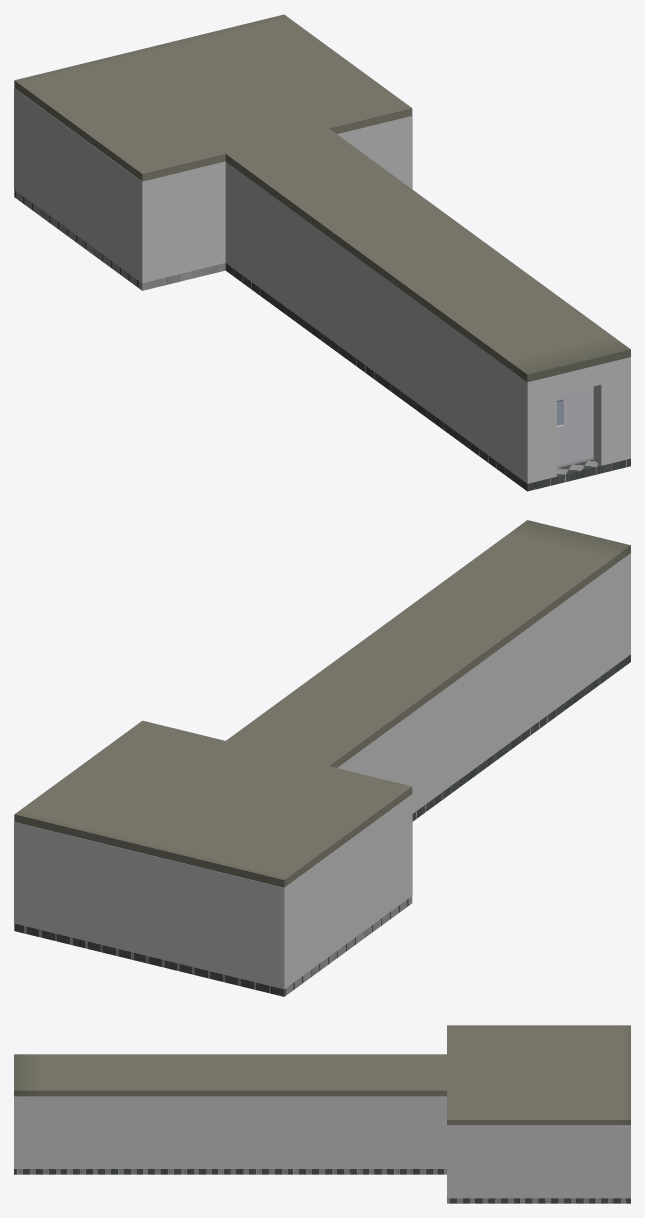
File: 3.Level_Hastahane_Map.fbx
3 renders of one model, top to bottom at view 1: azimuth 30°, elevation 25°; view 2: azimuth 150°, elevation 25°; view 3: azimuth 270°, elevation 25°, orthographic. The views are drawn at different scales.
Visible parts, largest first — view 1: tavan, hol_duvarı, hol_zemin, hol_kapı; view 2: tavan, hol_duvarı, hol_zemin; view 3: hol_duvarı, tavan, hol_zemin.
Part boxes in pixels (x1,y1,x2,y2): tavan: (14,14,630,382); hol_duvarı: (14,88,630,483); hol_zemin: (14,190,630,491); hol_kapı: (557,386,593,468); tavan: (14,520,630,887); hol_duvarı: (14,553,630,989); hol_zemin: (14,654,630,996); hol_duvarı: (14,1096,630,1198); tavan: (14,1025,630,1125); hol_zemin: (14,1169,630,1203).
Bounding box in the file's own units: 6496 × 2680 × 17888.
